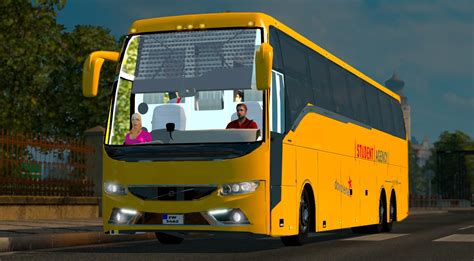bus: (96, 18, 410, 233)
person: (124, 114, 150, 143), (228, 107, 256, 127)
